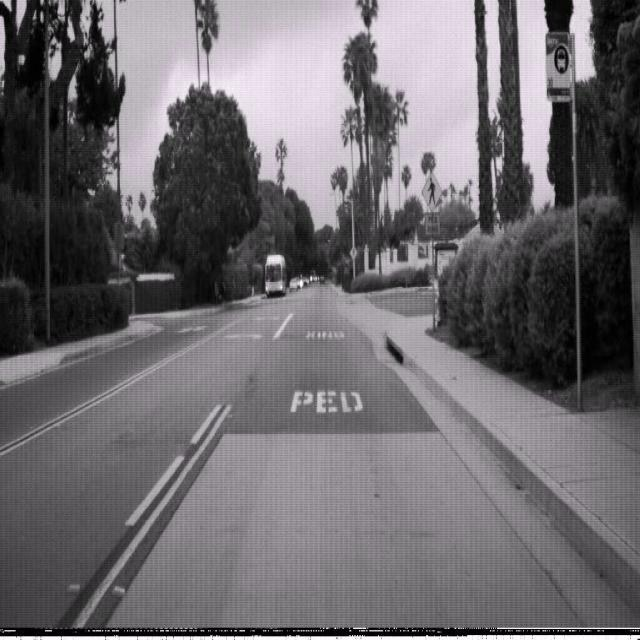pedestrianCrossing: (422, 170, 442, 213)
